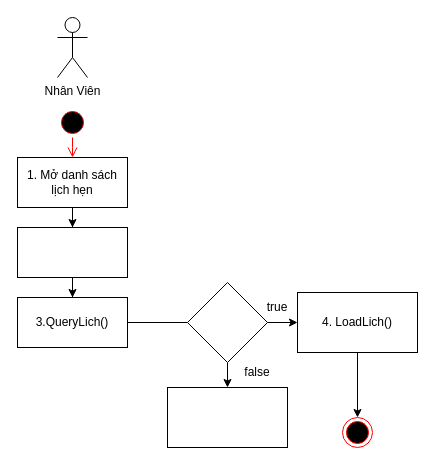
This 435x465 diagram has some shape labels left out. Here are the shapes that lost their labels. From the top down, the centre of each, then its label:
At pixel 72 252: "2.YeuCauTimKiem()".
At pixel 227 417: "3.1 Thông báo không có lịch hẹn".
